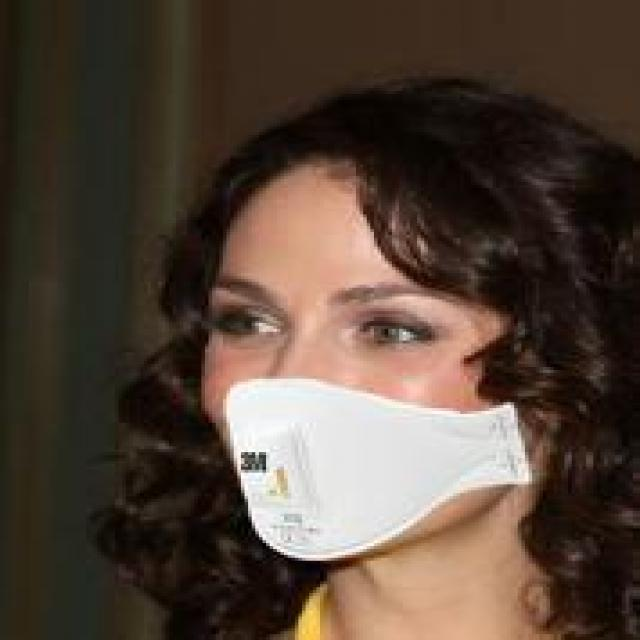mask: (187, 103, 590, 587)
